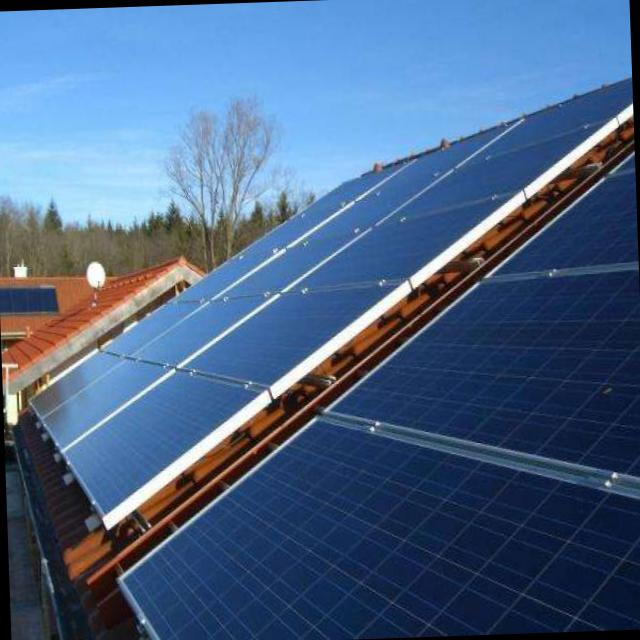no faulty: (29, 74, 633, 509), (125, 160, 640, 640)
